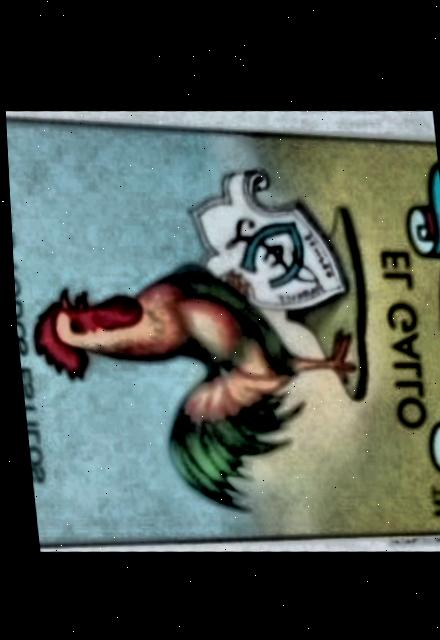Gallo: (5, 121, 440, 546)
